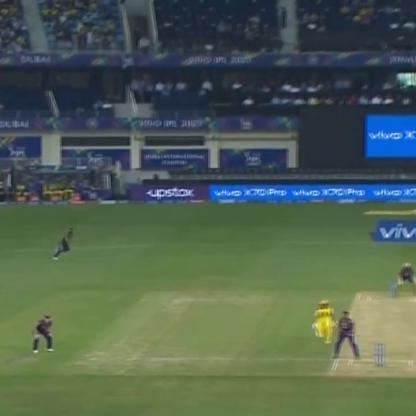pitch: (328, 284, 414, 378)
